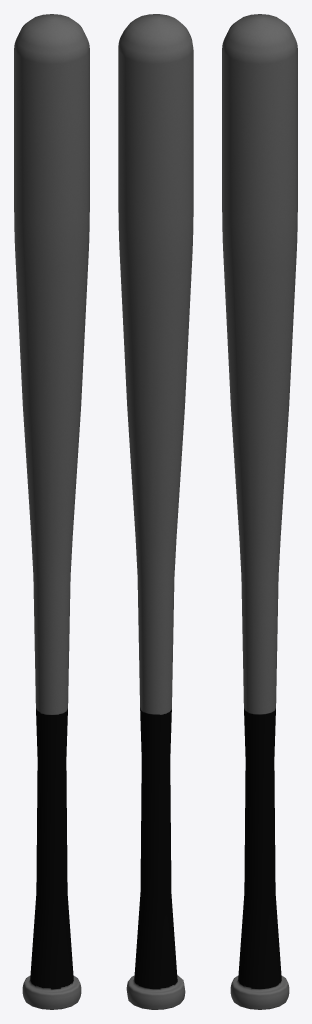
Rendered from bat_metal.obj.
3 views of the same model, side by side, from view 1: azimuth 90°, elevation 25°; view 2: azimuth 150°, elevation 25°; view 3: azimuth 270°, elevation 25° (orthographic).
Visible parts, largest first — view 1: bat_metal; view 2: bat_metal; view 3: bat_metal.
Part boxes in pixels (x1,y1,x2,y2): bat_metal: [14, 14, 89, 1009]; bat_metal: [118, 14, 193, 1009]; bat_metal: [222, 14, 297, 1009].
Size of the model in its own units: 0.07 by 1 by 0.07.
1 material, 1 textured.
